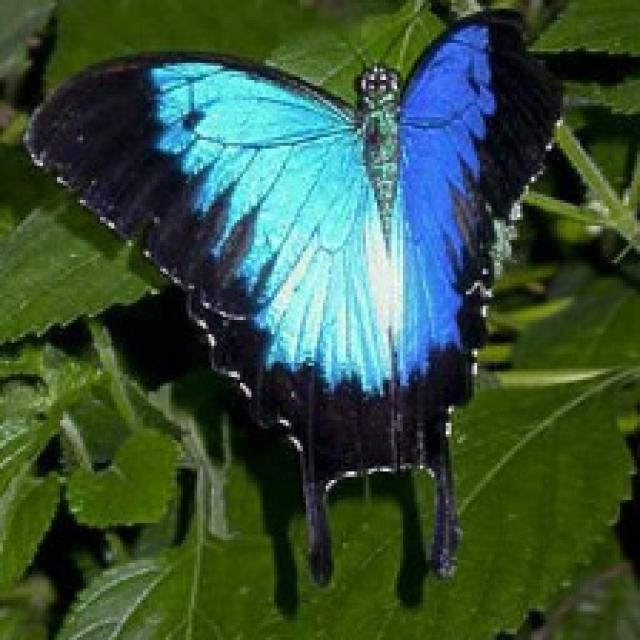butterfly: (20, 0, 563, 591)
